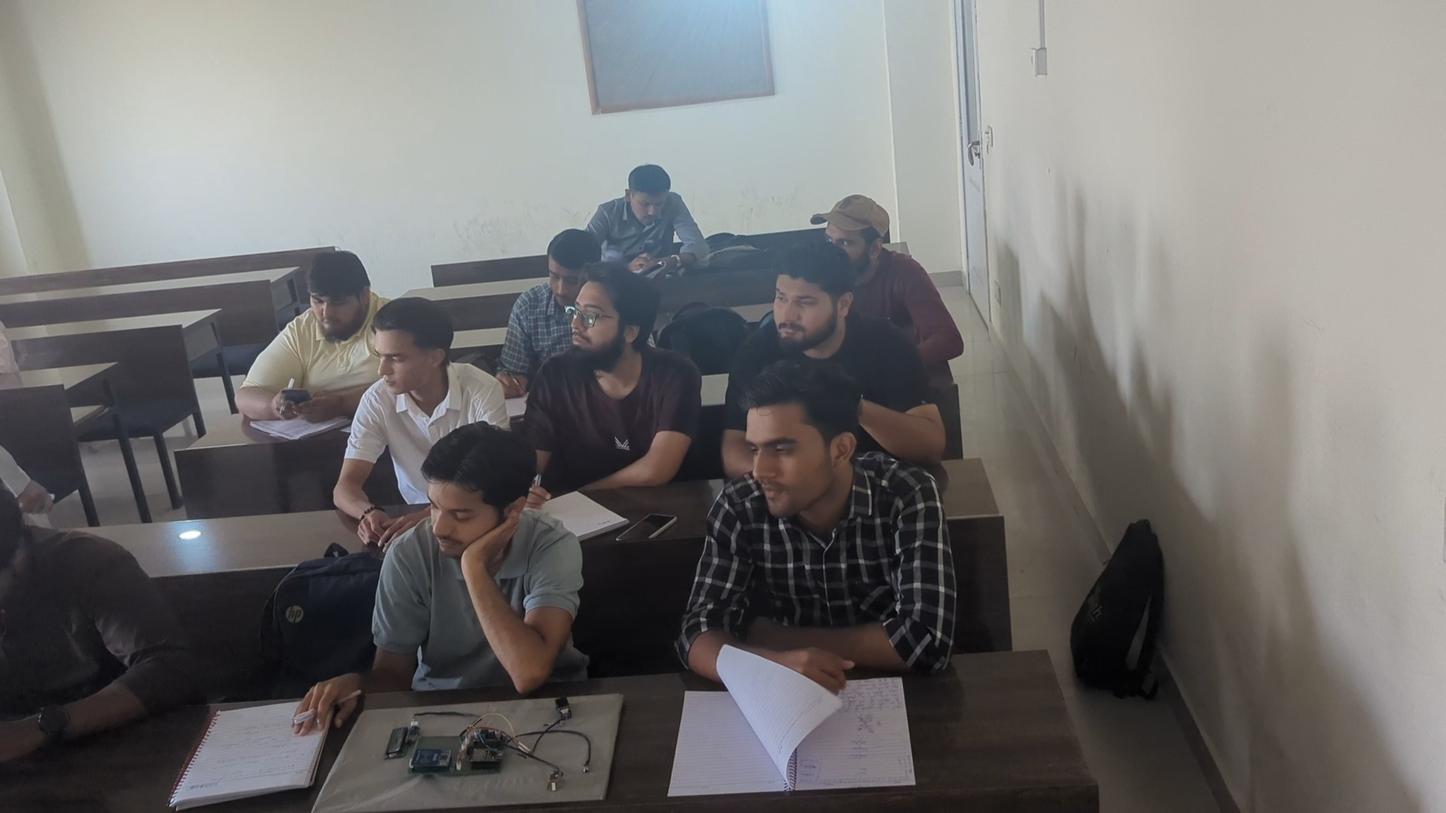look_forward: (680, 357, 959, 686), (526, 267, 703, 479), (345, 296, 509, 464), (818, 197, 965, 355), (747, 246, 906, 357)
read: (363, 418, 582, 693), (1, 481, 199, 773), (598, 161, 721, 273)
using_device: (228, 252, 370, 423)
